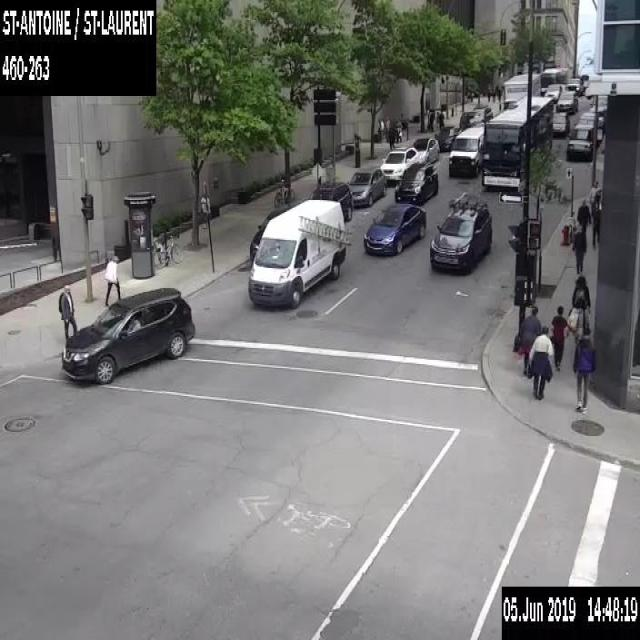bus: (482, 94, 553, 188), (540, 65, 566, 95)
construction: (311, 161, 322, 187)
pedestrian: (572, 326, 596, 414), (526, 324, 554, 398), (518, 304, 540, 378), (548, 304, 569, 371), (566, 296, 590, 345), (58, 283, 78, 341), (104, 252, 121, 307), (570, 223, 586, 273), (570, 274, 590, 308), (586, 178, 602, 218), (576, 197, 590, 234), (590, 199, 600, 249), (398, 111, 406, 137), (388, 124, 396, 149), (384, 115, 390, 140), (378, 116, 383, 141), (438, 109, 444, 128), (428, 113, 434, 131), (435, 110, 439, 129), (492, 90, 495, 101), (486, 90, 489, 100), (497, 90, 500, 100)
vehicle: (60, 284, 196, 387), (247, 197, 350, 308), (428, 190, 492, 272), (362, 201, 426, 254), (249, 205, 290, 263), (394, 160, 438, 204), (448, 124, 484, 176), (311, 179, 352, 221), (498, 72, 540, 111), (346, 166, 386, 205), (379, 145, 418, 180), (566, 123, 593, 160), (459, 104, 492, 132), (434, 125, 461, 151), (412, 136, 438, 163), (555, 89, 578, 112), (577, 112, 603, 128), (588, 94, 606, 116), (552, 111, 569, 134), (543, 83, 562, 102), (566, 76, 582, 95)
